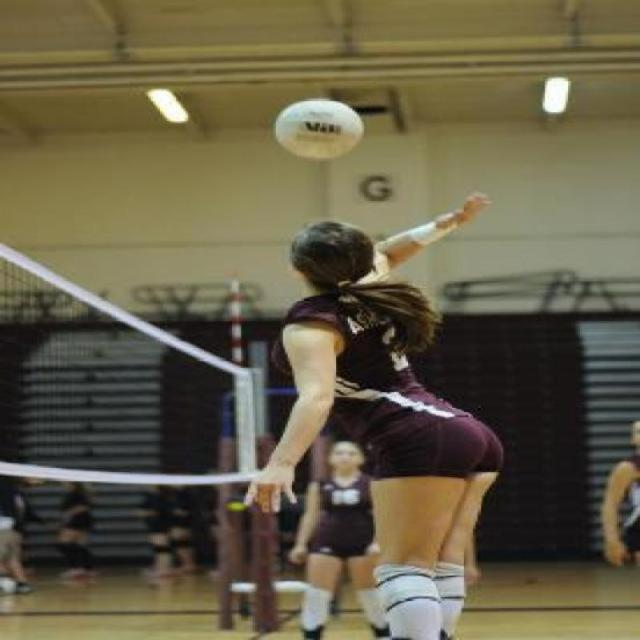volleyball: (272, 94, 366, 158)
